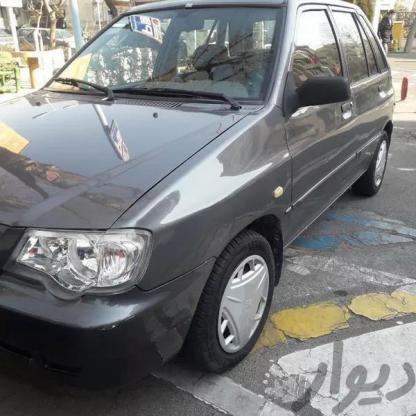Car: (0, 0, 387, 367)
